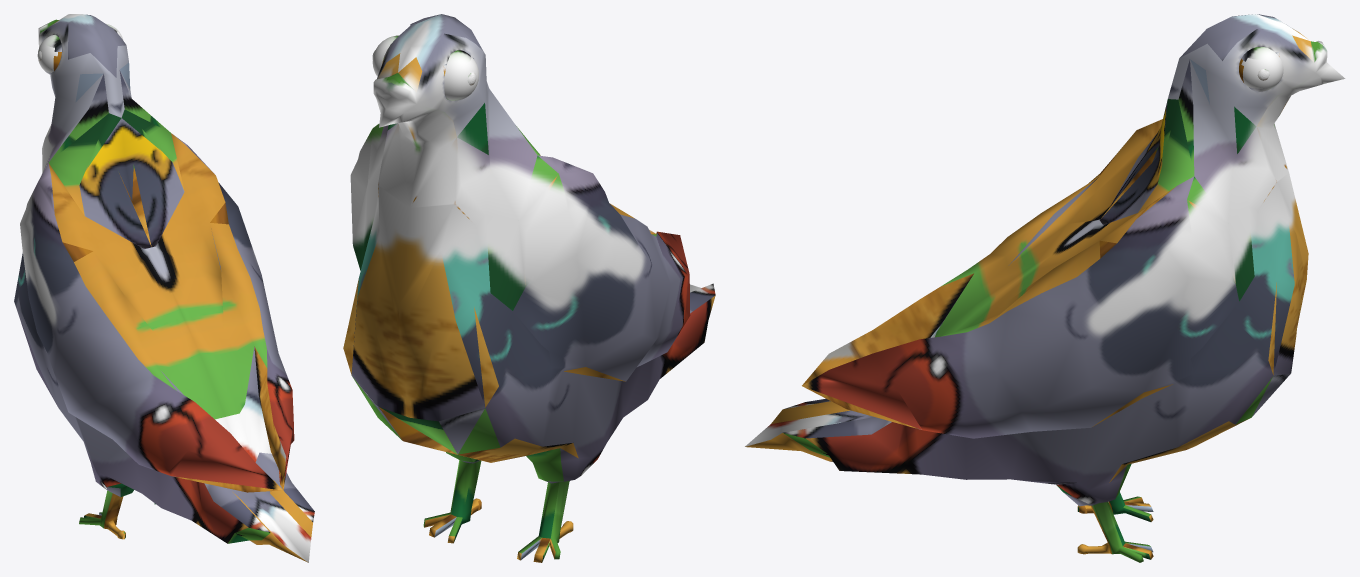
The model's file is Staple_Vtest.obj.
3 renders of one model, left to right at view 1: azimuth 30°, elevation 25°; view 2: azimuth 150°, elevation 25°; view 3: azimuth 270°, elevation 25°, orthographic. The views are drawn at different scales.
Visible parts, largest first — view 1: Plane_Plane.001; view 2: Plane_Plane.001; view 3: Plane_Plane.001.
Boxes of the visible parts, x1=… form: Plane_Plane.001: x1=14, y1=14, x2=314, y2=562; Plane_Plane.001: x1=343, y1=14, x2=715, y2=562; Plane_Plane.001: x1=745, y1=14, x2=1345, y2=562.
Bounding box in the file's own units: 0.367 × 0.8033 × 0.8377.
